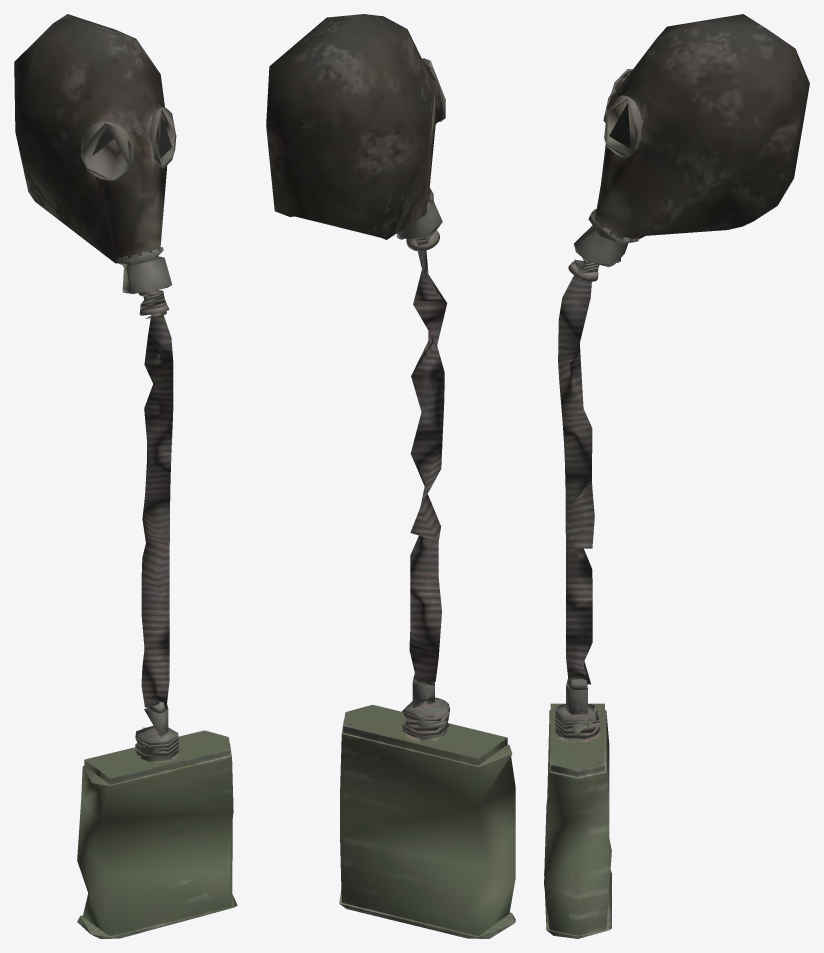
File: gasMask.glb
The picture shows the model from 3 angles, left to right: view 1: azimuth 30°, elevation 25°; view 2: azimuth 150°, elevation 25°; view 3: azimuth 270°, elevation 25°; orthographic projection. The views are drawn at different scales.
Parts seen in each view (by area): view 1: old_gas_mask; view 2: old_gas_mask; view 3: old_gas_mask.
Part boxes in pixels (box(x1,y1,x2,y2)): old_gas_mask: box(14, 14, 237, 938); old_gas_mask: box(266, 14, 515, 938); old_gas_mask: box(544, 14, 809, 938).
Bounding box in the file's own units: 0.2081 × 1.12 × 0.308.
1 material, 1 textured.
